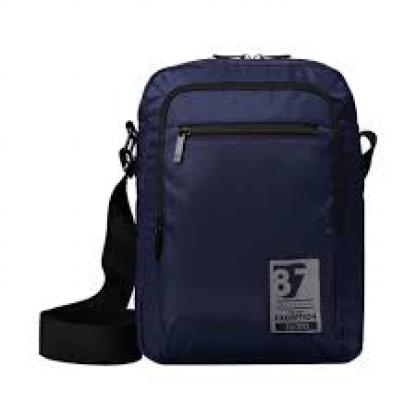morral: (24, 39, 385, 377)
